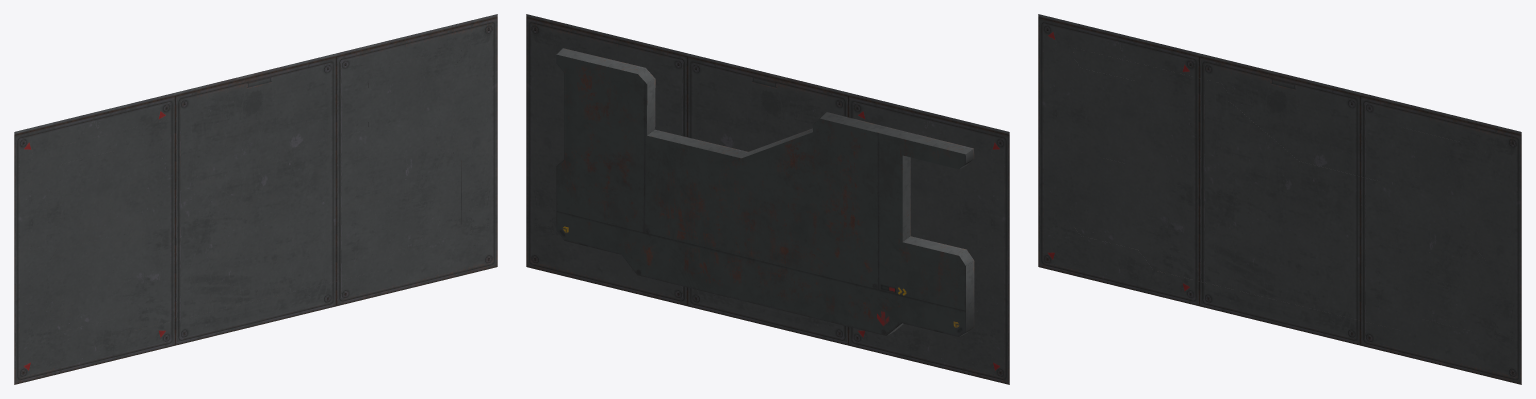
File: ARC0910247.fbx
The picture shows the model from 3 angles, left to right: view 1: azimuth 30°, elevation 25°; view 2: azimuth 150°, elevation 25°; view 3: azimuth 330°, elevation 25°; orthographic projection.
Visible parts, largest first — view 1: smARC0910247; view 2: smARC0910247; view 3: smARC0910247.
Part boxes in pixels (<box>): smARC0910247: <box>14,14,497,384</box>; smARC0910247: <box>526,14,1009,384</box>; smARC0910247: <box>1038,14,1521,384</box>.
Size of the model in its own units: 1200 by 600 by 31.71.
Materials: 1 (1 with a texture image).
